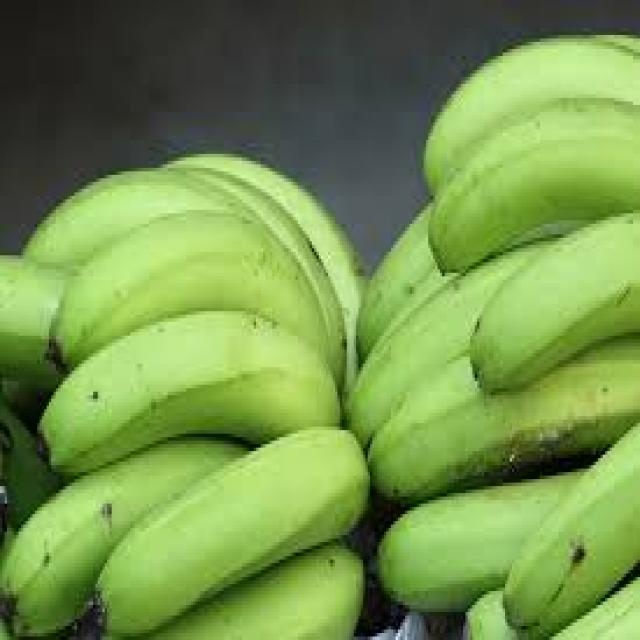Banana: (0, 147, 363, 640), (348, 32, 640, 640)
